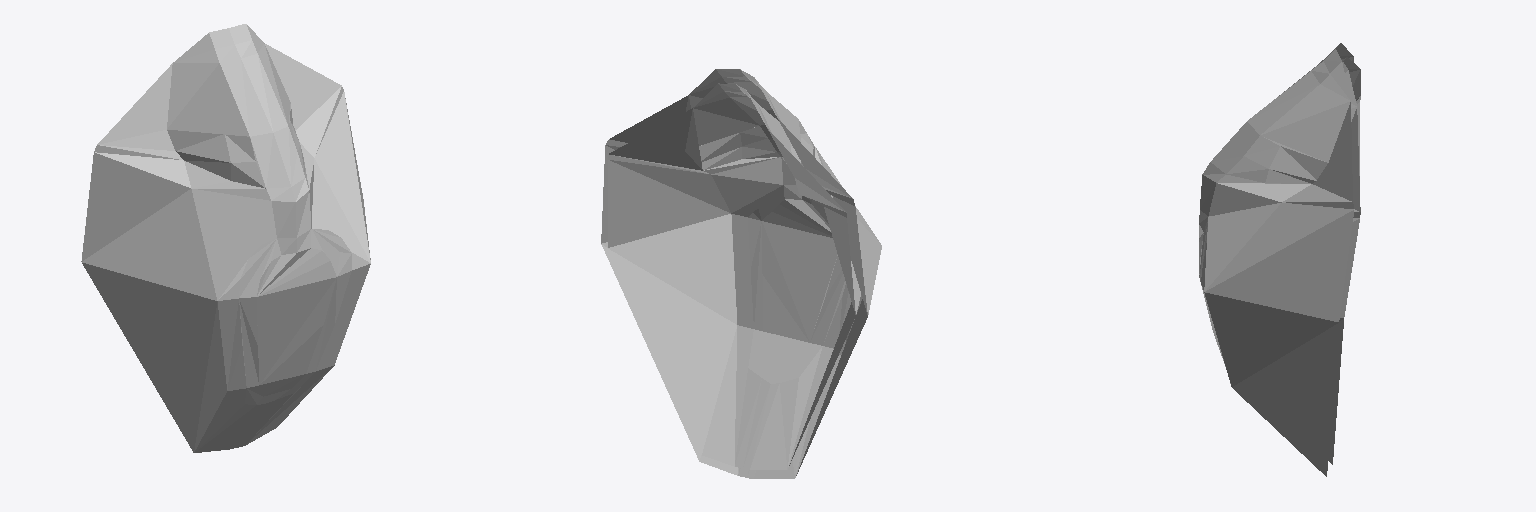
File: tapabocas_este.obj
3 renders of one model, left to right at view 1: azimuth 30°, elevation 25°; view 2: azimuth 150°, elevation 25°; view 3: azimuth 270°, elevation 25°, orthographic.
Parts seen in each view (by area): view 1: mascara3 mascaraShape3Envelope; view 2: mascara3, mascara3 mascaraShape3Envelope; view 3: mascara3 mascaraShape3Envelope, mascara3.
Boxes of the visible parts, box(x1,y1,x2,y2) form: mascara3 mascaraShape3Envelope: box(81, 24, 370, 452); mascara3: box(608, 83, 860, 469); mascara3 mascaraShape3Envelope: box(601, 69, 881, 478); mascara3 mascaraShape3Envelope: box(1199, 43, 1353, 476); mascara3: box(1328, 57, 1360, 464).
Bounding box in the file's own units: 3.77 × 5.44 × 1.92.